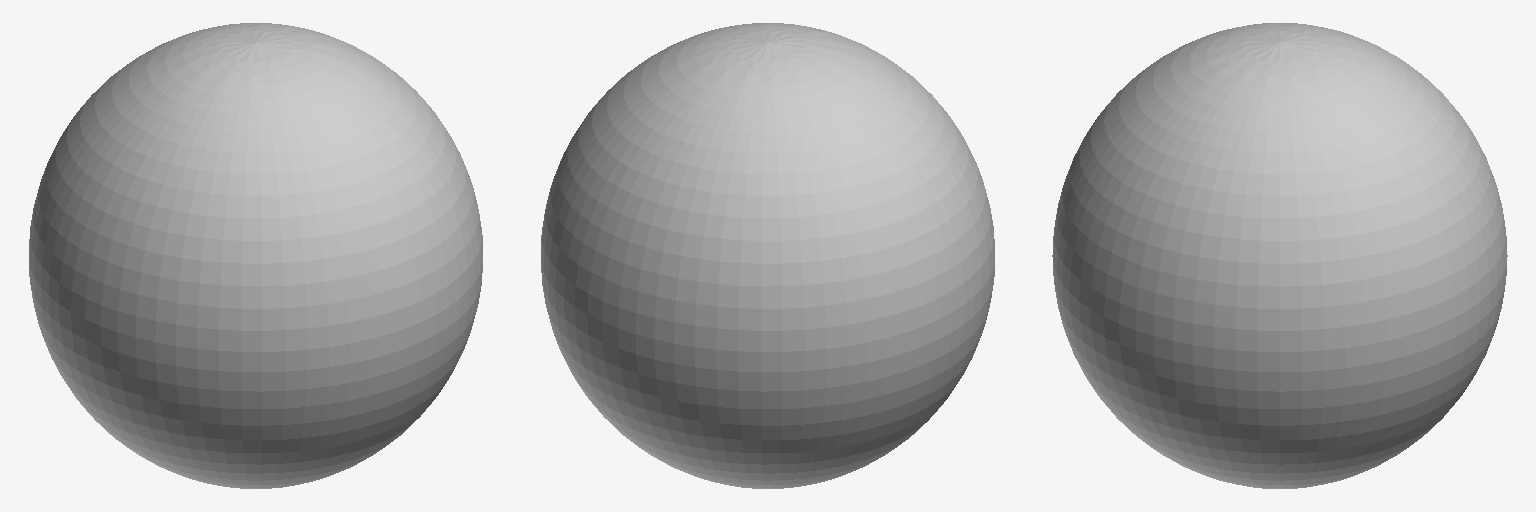
The model's file is whero.obj.
3 renders of one model, left to right at view 1: azimuth 30°, elevation 25°; view 2: azimuth 150°, elevation 25°; view 3: azimuth 270°, elevation 25°, orthographic.
Parts seen in each view (by area): view 1: Sphere; view 2: Sphere; view 3: Sphere.
Boxes of the visible parts, <box> form: Sphere: <box>29,23,482,488</box>; Sphere: <box>541,23,994,488</box>; Sphere: <box>1052,23,1507,488</box>.
Size of the model in its own units: 1.9 by 1.97 by 1.9.